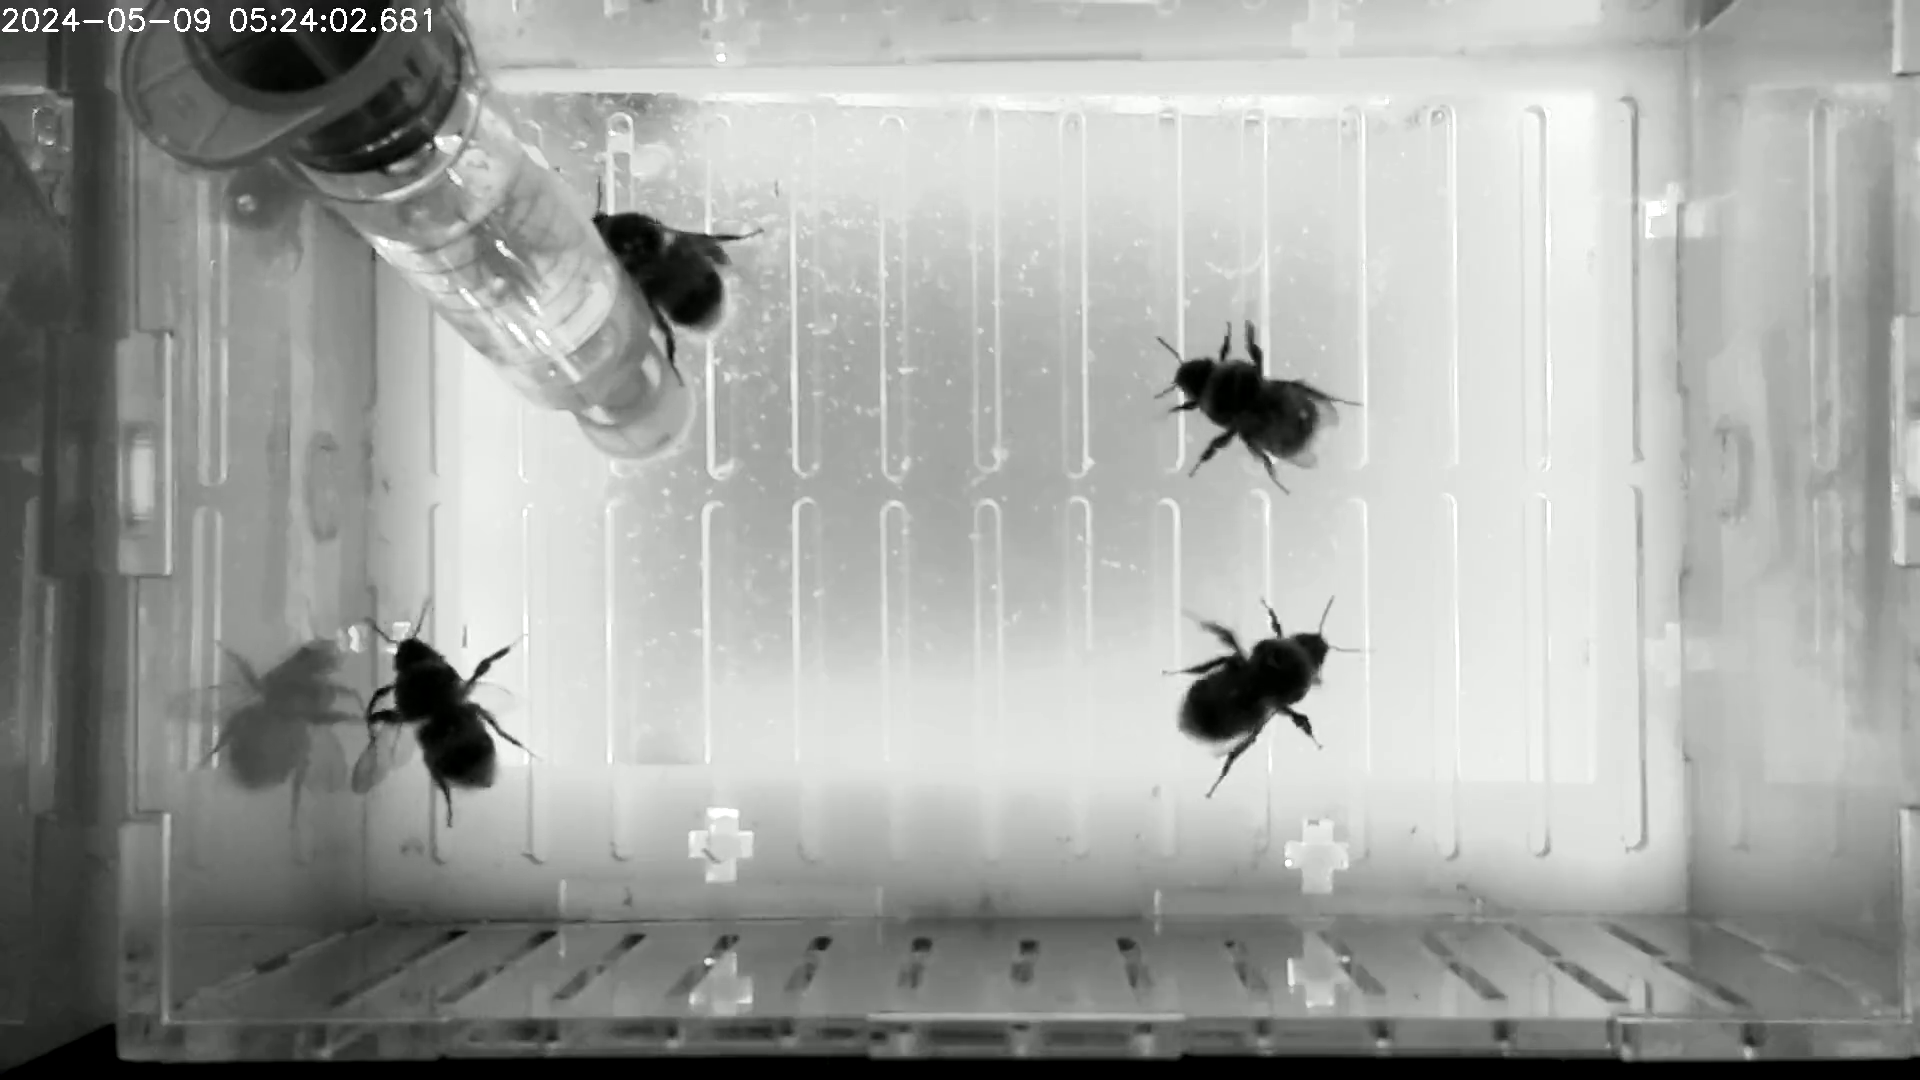bee: (343, 589, 554, 837), (1145, 592, 1379, 802), (1142, 311, 1367, 502), (583, 174, 778, 385)
feeder: (314, 76, 659, 411)
